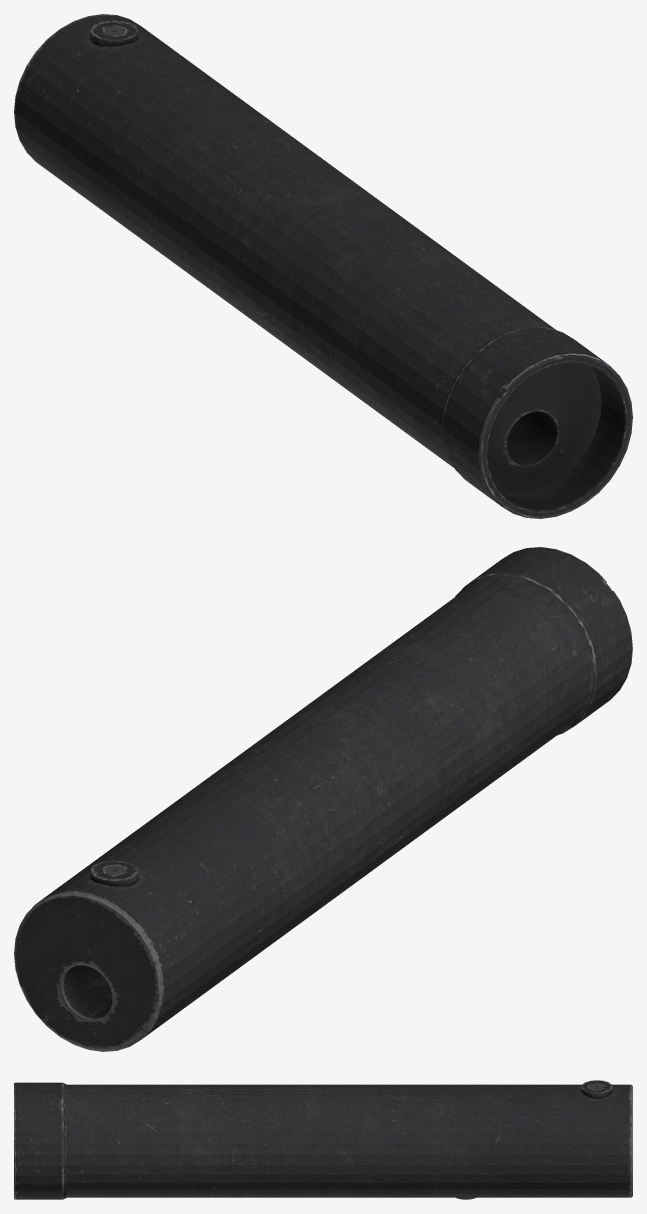
3 renders of one model, top to bottom at view 1: azimuth 30°, elevation 25°; view 2: azimuth 150°, elevation 25°; view 3: azimuth 270°, elevation 25°, orthographic. The views are drawn at different scales.
Parts seen in each view (by area): view 1: TW_5a27b6bec4a282000e496f78_PZ_Import; view 2: TW_5a27b6bec4a282000e496f78_PZ_Import; view 3: TW_5a27b6bec4a282000e496f78_PZ_Import.
Part boxes in pixels (box(x1,y1,x2,y2)): TW_5a27b6bec4a282000e496f78_PZ_Import: box(14, 14, 632, 518); TW_5a27b6bec4a282000e496f78_PZ_Import: box(14, 547, 632, 1051); TW_5a27b6bec4a282000e496f78_PZ_Import: box(14, 1080, 632, 1199).
Size of the model in its own units: 0.0223 by 0.1176 by 0.0225.
Materials: 1 (1 with a texture image).
